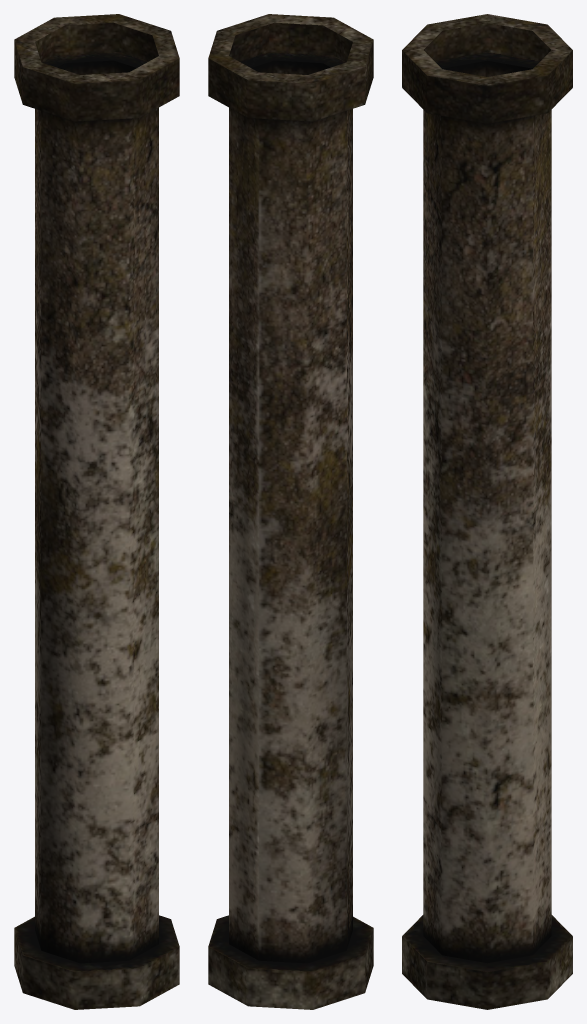
File: ExtPipe_09.FBX
The picture shows the model from 3 angles, left to right: view 1: azimuth 30°, elevation 25°; view 2: azimuth 150°, elevation 25°; view 3: azimuth 270°, elevation 25°; orthographic projection.
Visible parts, largest first — view 1: ExtPipe_09; view 2: ExtPipe_09; view 3: ExtPipe_09.
Boxes of the visible parts, x1=… form: ExtPipe_09: x1=14, y1=14, x2=179, y2=1009; ExtPipe_09: x1=208, y1=14, x2=373, y2=1009; ExtPipe_09: x1=402, y1=14, x2=572, y2=1009.
Bounding box in the file's own units: 16 × 95.53 × 16.
